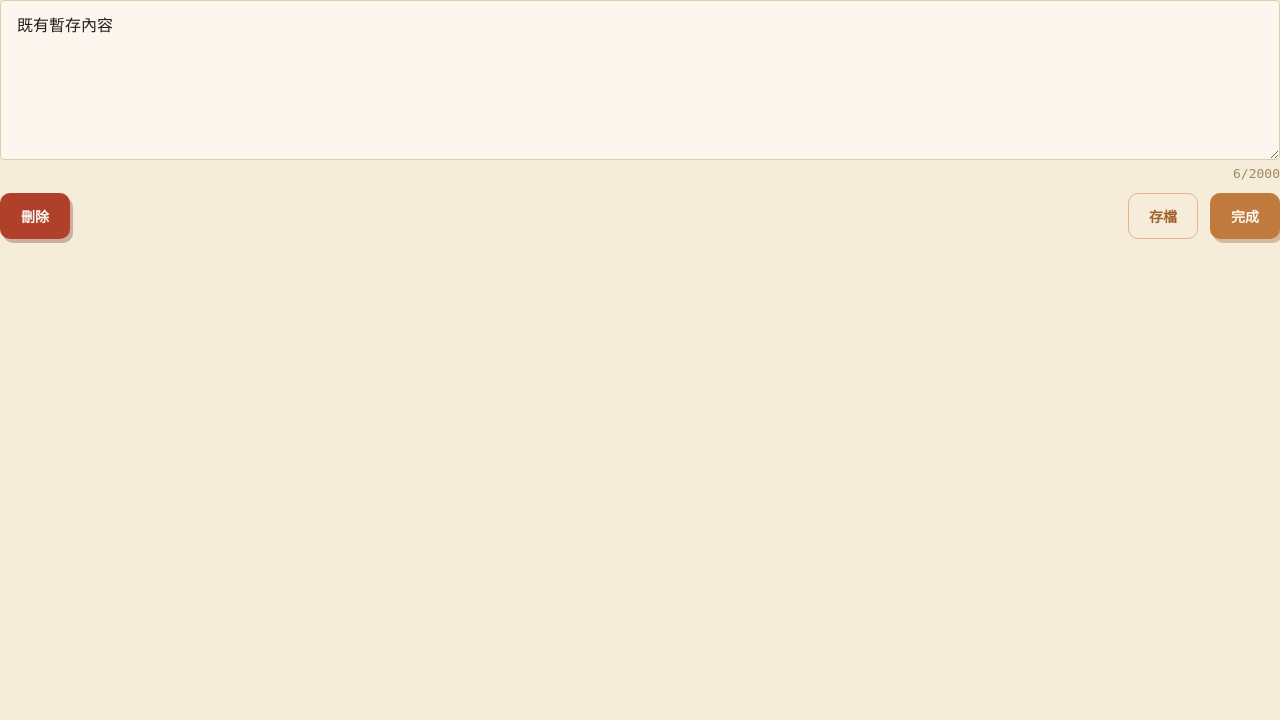
Test: TodayEntryEditor › deletes the record and resets to a blank editor when confirmed
Click the button "刪除" at (35, 216), box [0, 193, 70, 239]
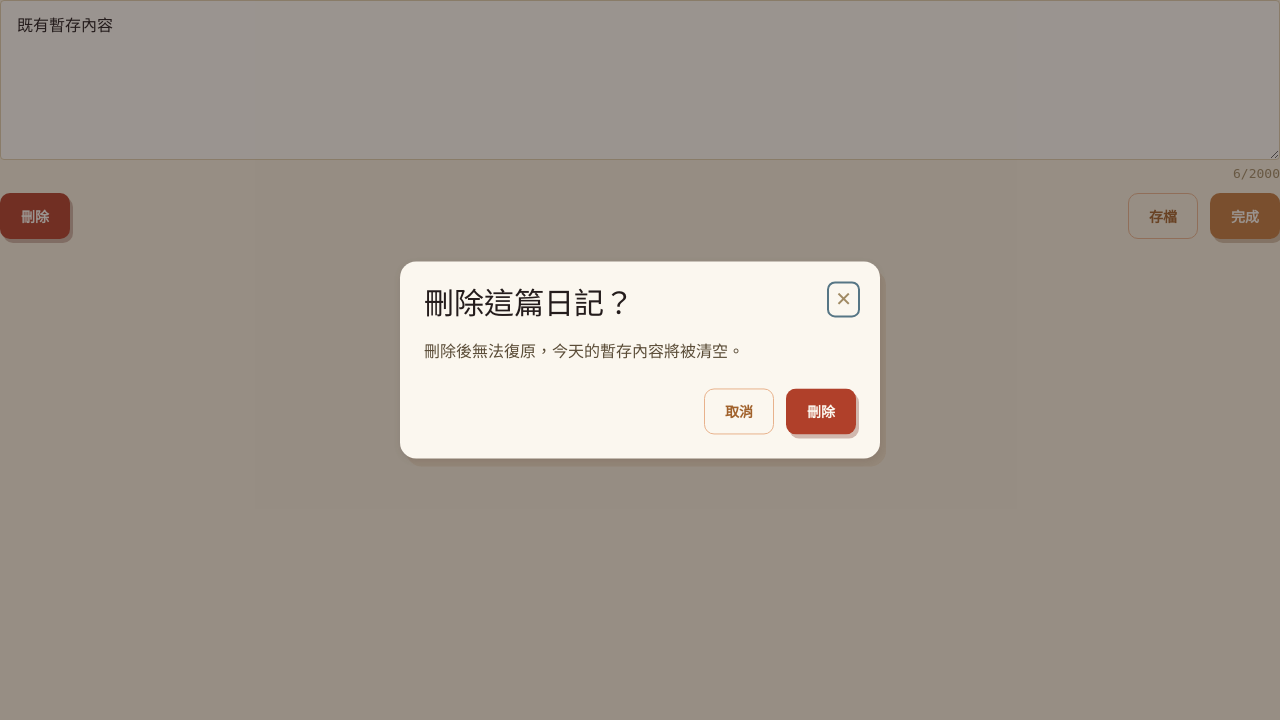
Click the button "刪除" at (821, 412), box [786, 388, 856, 434]
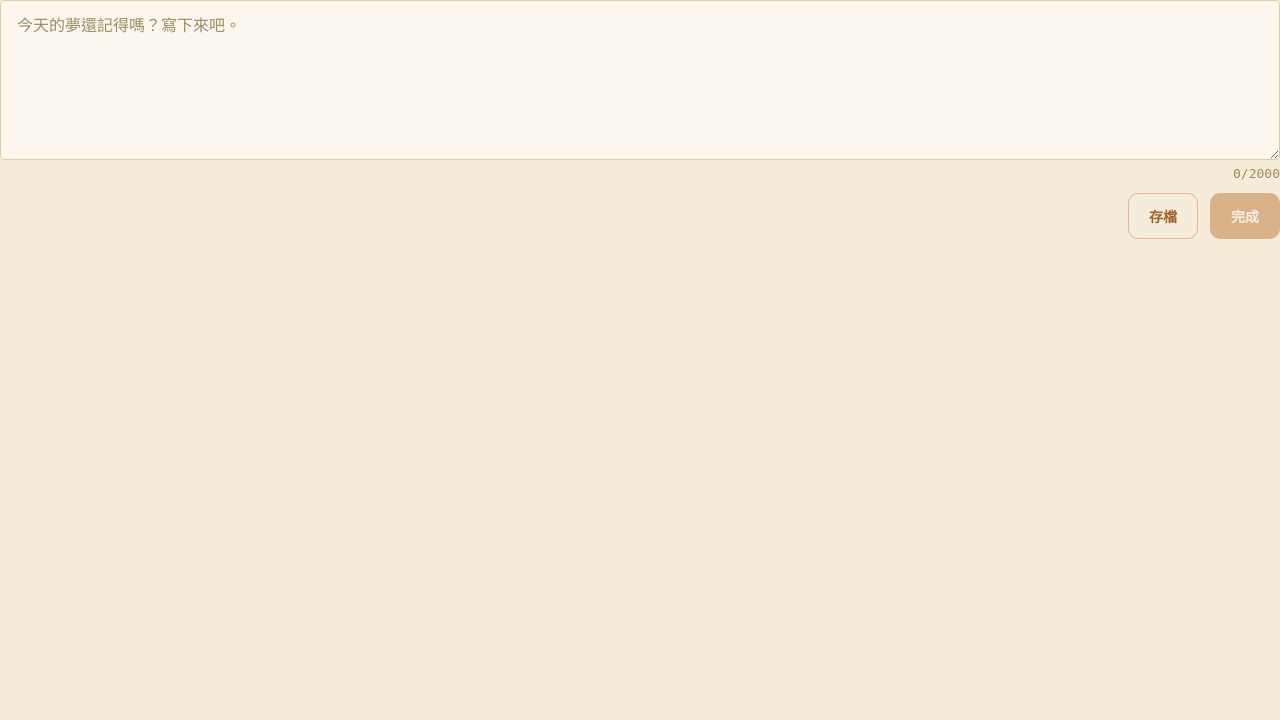
Now the text box named "今日夢境日記內容" is empty, box [0, 0, 1279, 160]
Now the button "刪除" is gone
